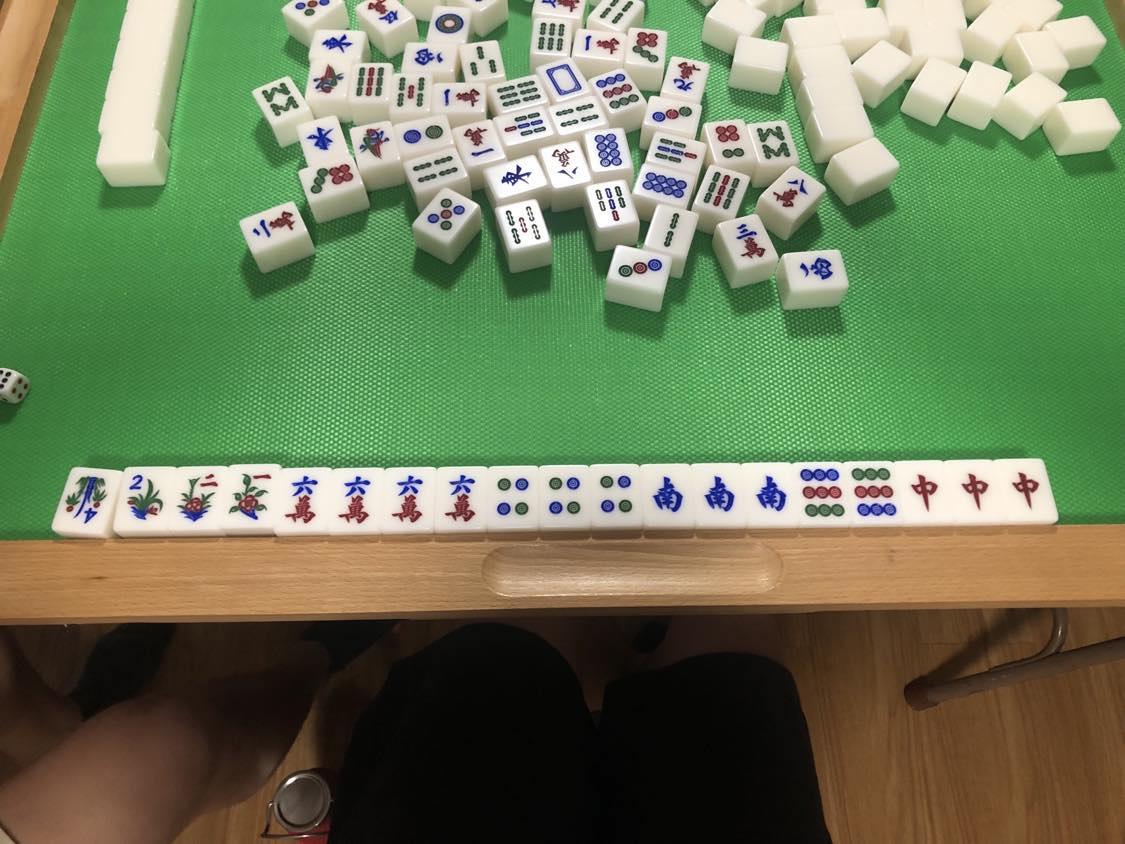character-six: (387, 470, 435, 527), (334, 471, 381, 529), (441, 469, 485, 526), (283, 472, 325, 528)
circle-four: (592, 471, 635, 523), (545, 471, 585, 524), (491, 471, 533, 521)
circle-nine: (851, 464, 898, 521), (798, 465, 846, 520)
flower-blue_four: (54, 465, 111, 533)
flower-blue_two: (123, 469, 169, 528)
flower-red_one: (225, 467, 278, 527)
flower-red_two: (176, 469, 221, 530)
honor-red_dragon: (954, 463, 997, 519), (906, 466, 947, 520), (1007, 464, 1047, 517)
honor-south_wind: (695, 466, 744, 523), (642, 466, 689, 524), (749, 467, 794, 521)
